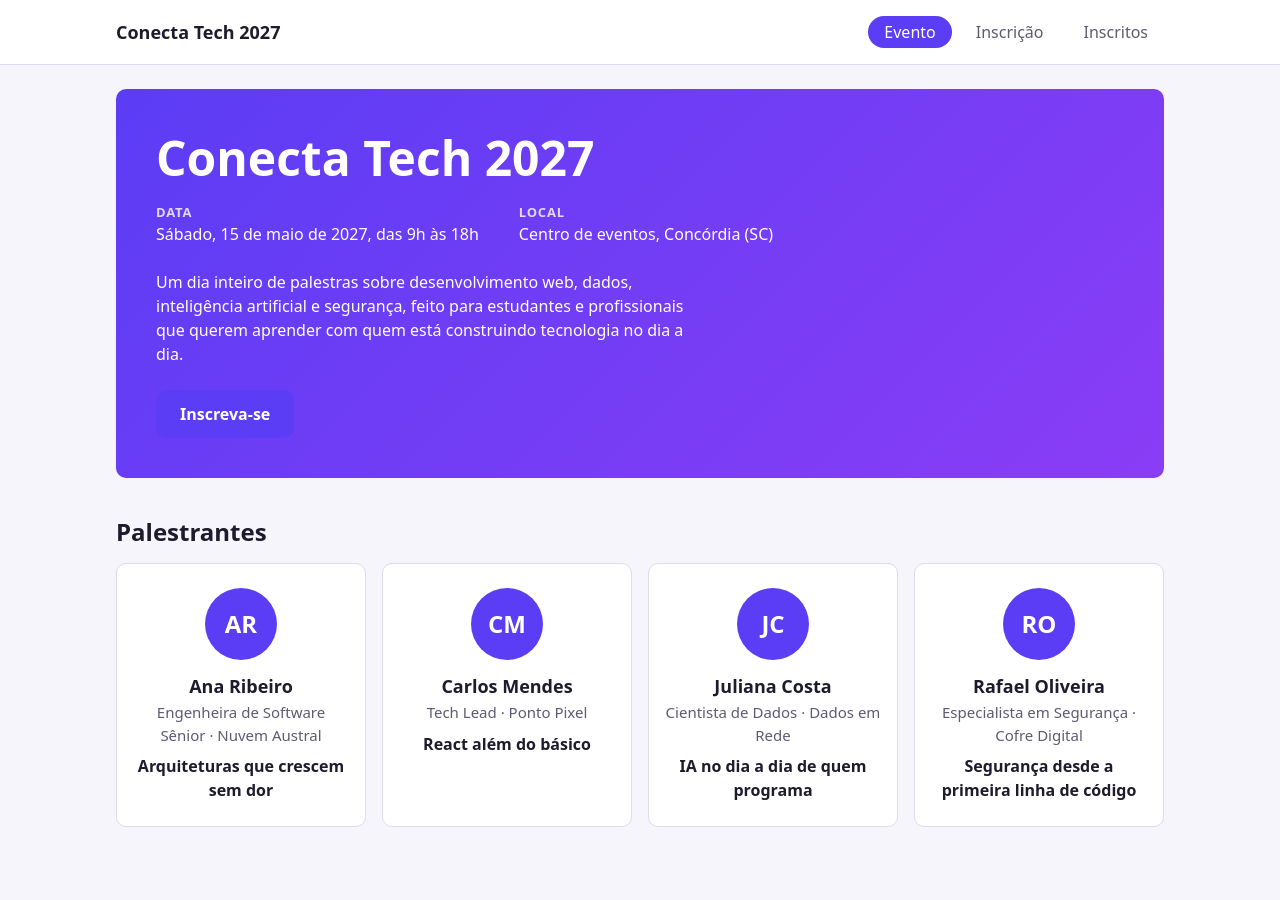
Test: tela do evento › REQ-FE-06: o botão "Inscreva-se" leva à tela de inscrição
Click the link "Inscreva-se" at point(225, 414), box [156,390,294,438]
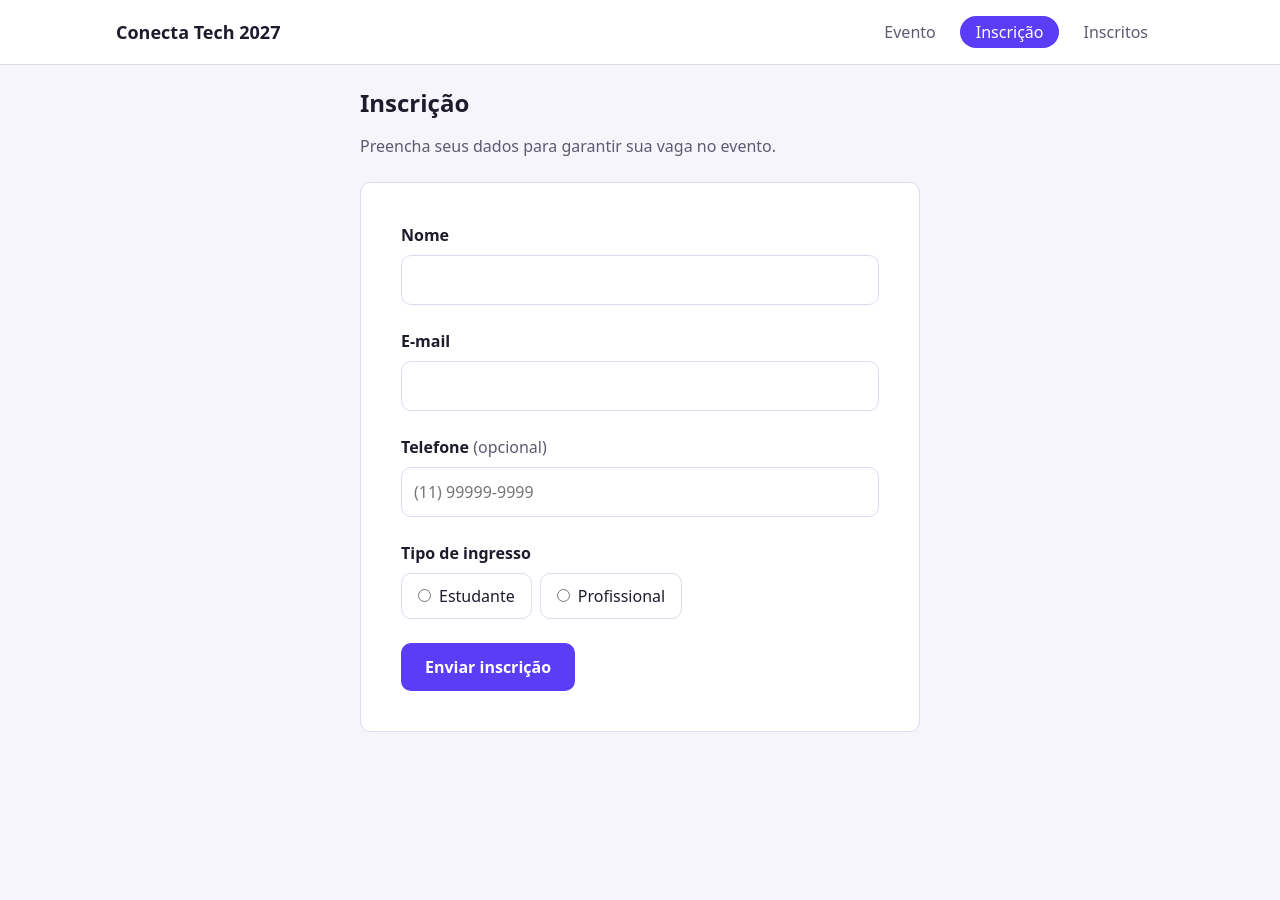
Expected: the heading reads "Inscrição", [360,86,469,119]
